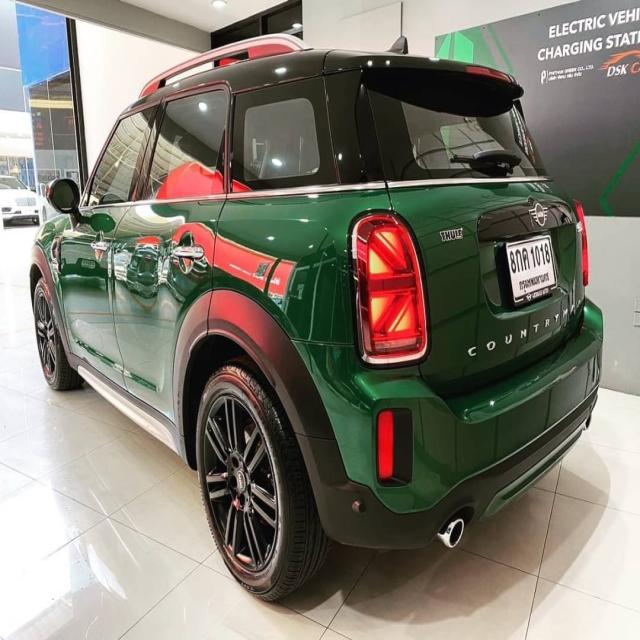license_plate: (497, 227, 563, 312)
